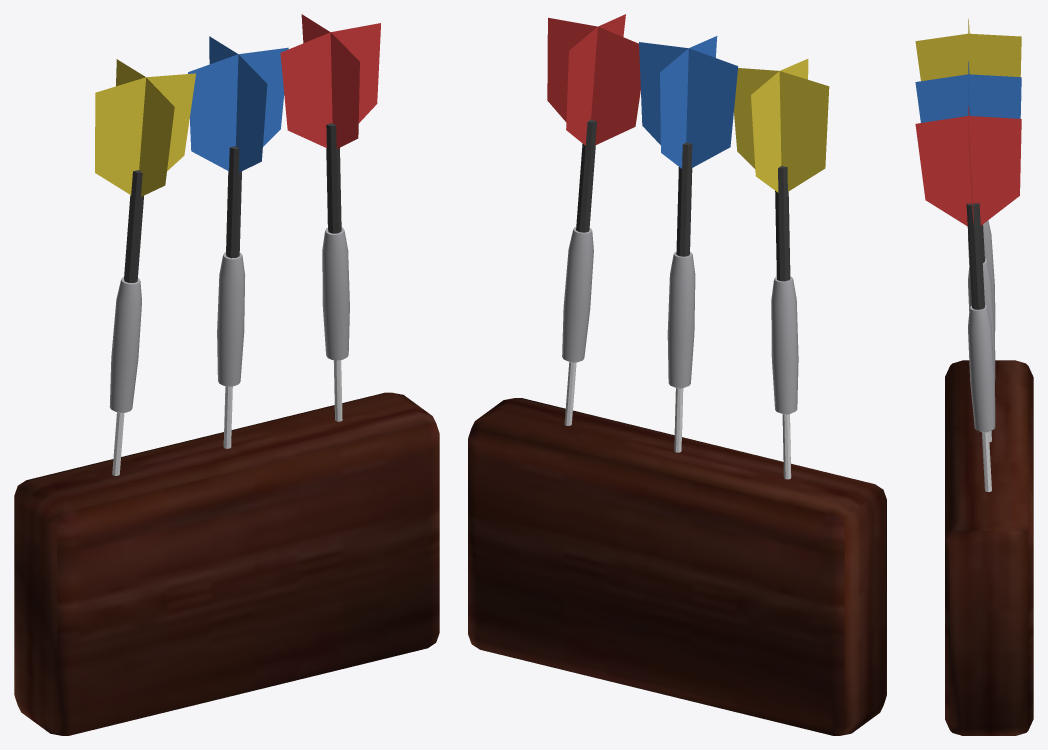
The model's file is dart_holder.glb.
3 views of the same model, side by side, from view 1: azimuth 30°, elevation 25°; view 2: azimuth 150°, elevation 25°; view 3: azimuth 270°, elevation 25° (orthographic). The views are drawn at different scales.
Visible parts, largest first — view 1: Dart holder, Tungsten.001, Flight 0.001, Flight 2.001, Flight 1.001, Dart shaft.001, Dart tip.001; view 2: Dart holder, Tungsten.001, Flight 1.001, Flight 0.001, Flight 2.001, Dart shaft.001, Dart tip.001; view 3: Dart holder, Flight 0.001, Flight 1.001, Flight 2.001, Tungsten.001, Dart shaft.001, Dart tip.001.
Boxes of the visible parts, x1=… form: Dart holder: x1=14, y1=392, x2=439, y2=735; Tungsten.001: x1=109, y1=227, x2=349, y2=413; Flight 0.001: x1=280, y1=14, x2=380, y2=148; Flight 2.001: x1=95, y1=59, x2=195, y2=196; Flight 1.001: x1=188, y1=36, x2=288, y2=172; Dart shaft.001: x1=124, y1=123, x2=341, y2=282; Dart tip.001: x1=112, y1=360, x2=342, y2=475; Dart holder: x1=468, y1=398, x2=886, y2=735; Tungsten.001: x1=562, y1=227, x2=798, y2=414; Flight 1.001: x1=639, y1=36, x2=738, y2=168; Flight 0.001: x1=547, y1=14, x2=640, y2=145; Flight 2.001: x1=734, y1=59, x2=829, y2=192; Dart shaft.001: x1=576, y1=119, x2=790, y2=281; Dart tip.001: x1=564, y1=362, x2=791, y2=479; Dart holder: x1=945, y1=360, x2=1033, y2=735; Flight 0.001: x1=915, y1=106, x2=1021, y2=227; Flight 1.001: x1=915, y1=61, x2=1021, y2=122; Flight 2.001: x1=915, y1=18, x2=1021, y2=81; Tungsten.001: x1=968, y1=220, x2=995, y2=432; Dart shaft.001: x1=966, y1=203, x2=984, y2=309; Dart tip.001: x1=981, y1=431, x2=991, y2=491.
Bounding box in the file's own units: 0.14 × 0.2168 × 0.04.
7 materials, 1 textured.
